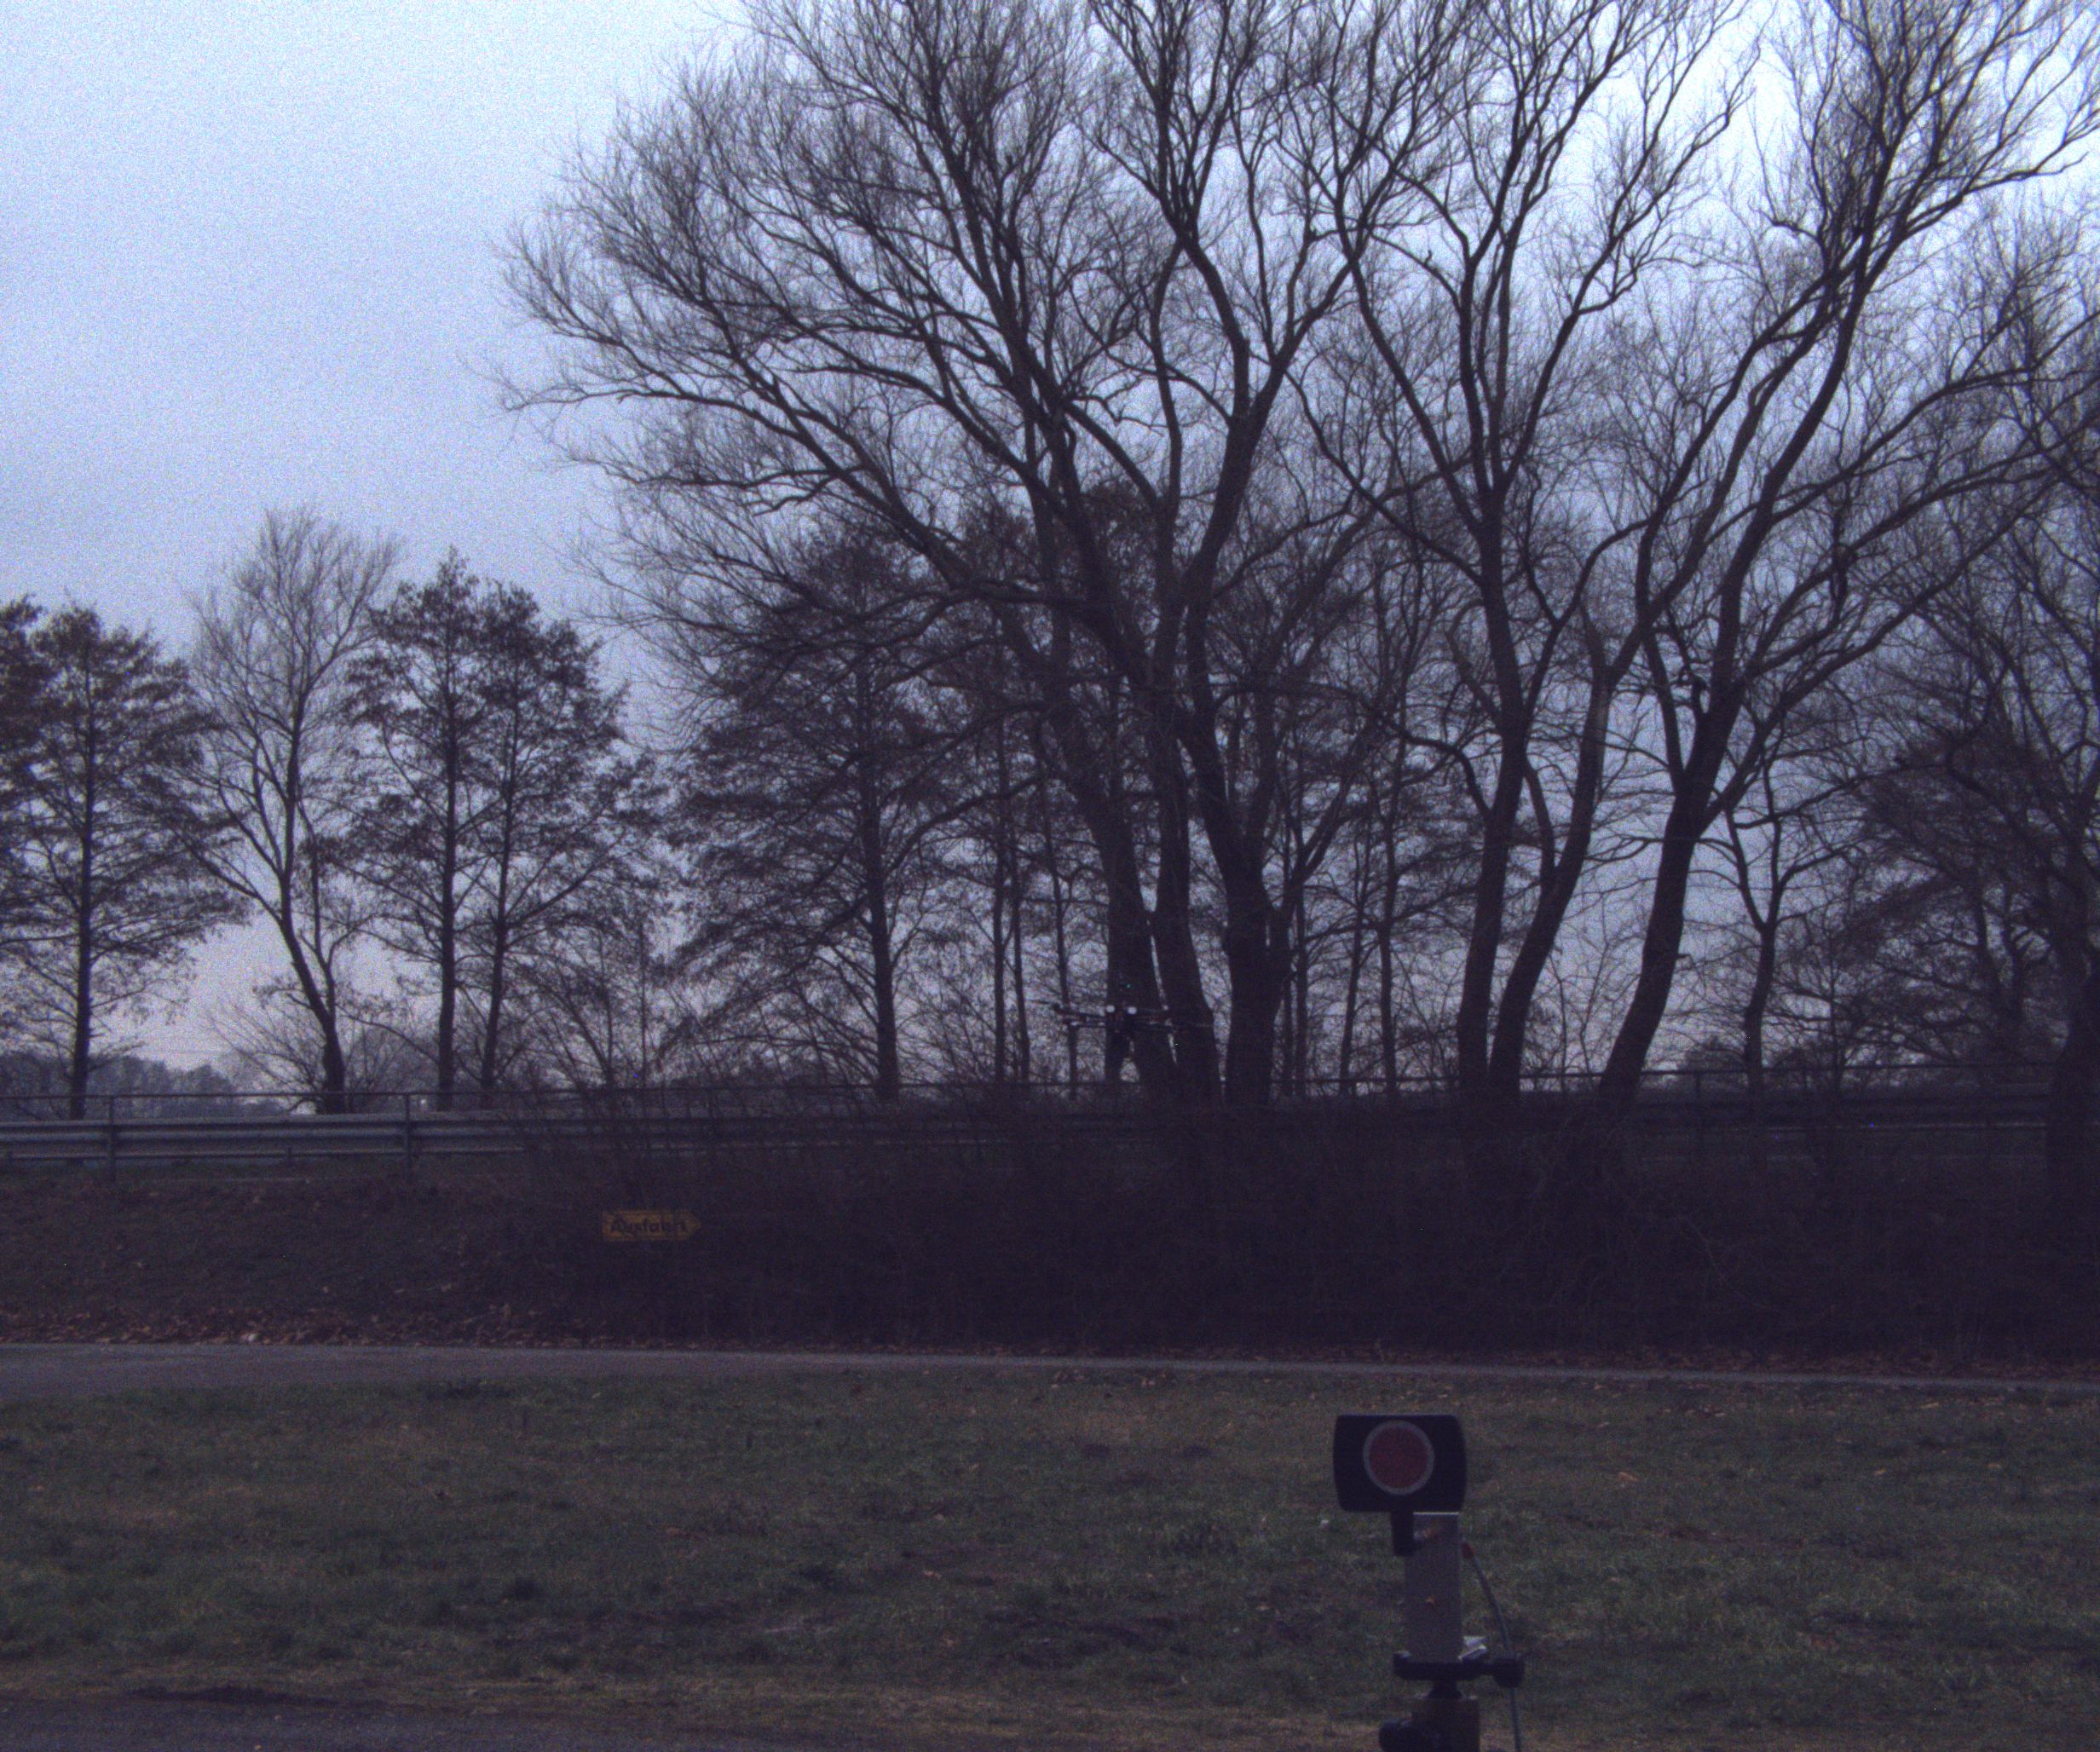Drohne: (1052, 968, 1266, 1086)
